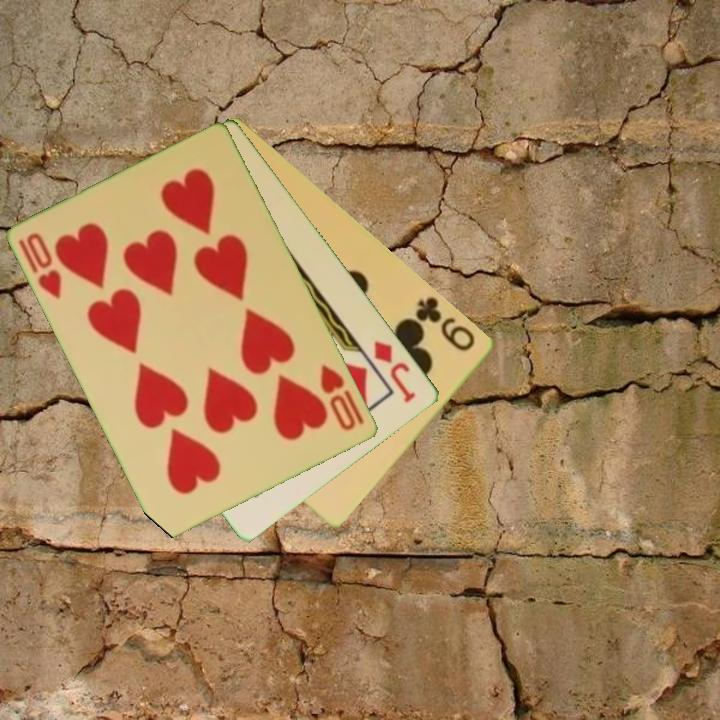10h: (15, 229, 65, 302), (317, 360, 360, 434)
9c: (412, 293, 479, 354)
Jd: (371, 337, 420, 407)
